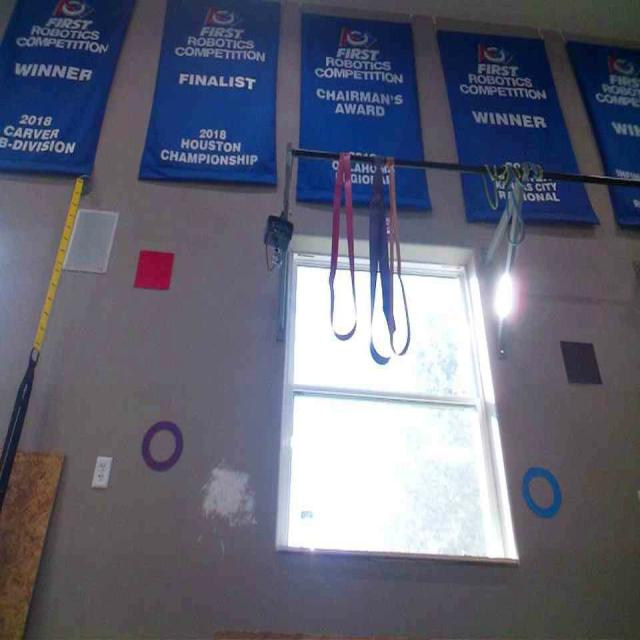ring_blue: (520, 466, 562, 514)
ring_purple: (141, 418, 184, 468)
square_black: (559, 340, 602, 382)
square_red: (133, 248, 176, 289)
